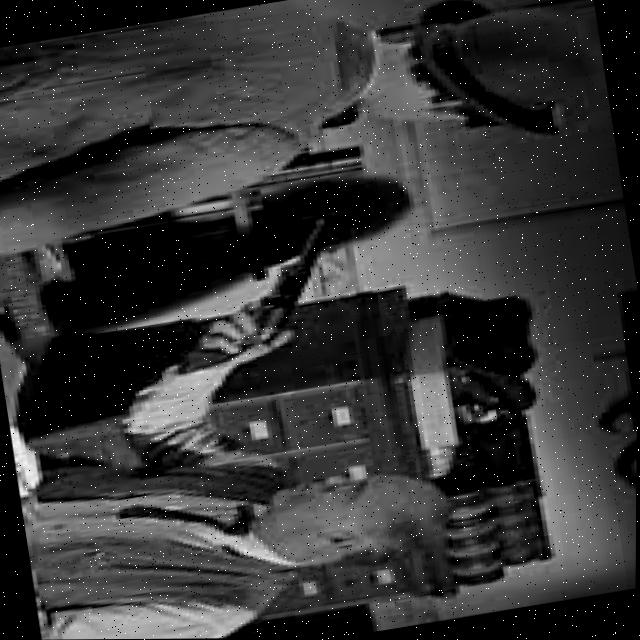pistol: (155, 214, 357, 376)
